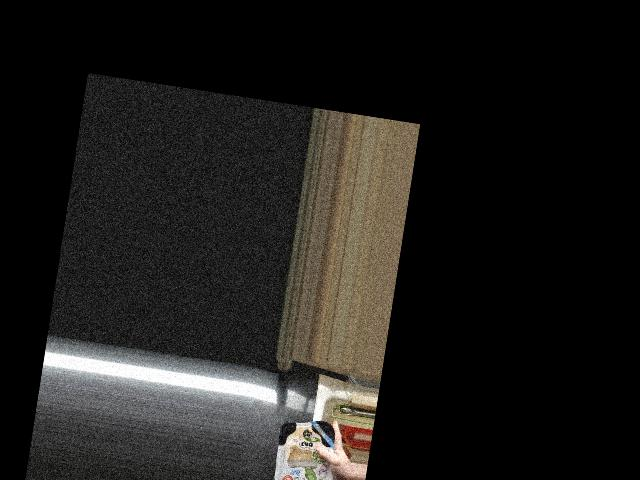cheese: (271, 415, 342, 480)
